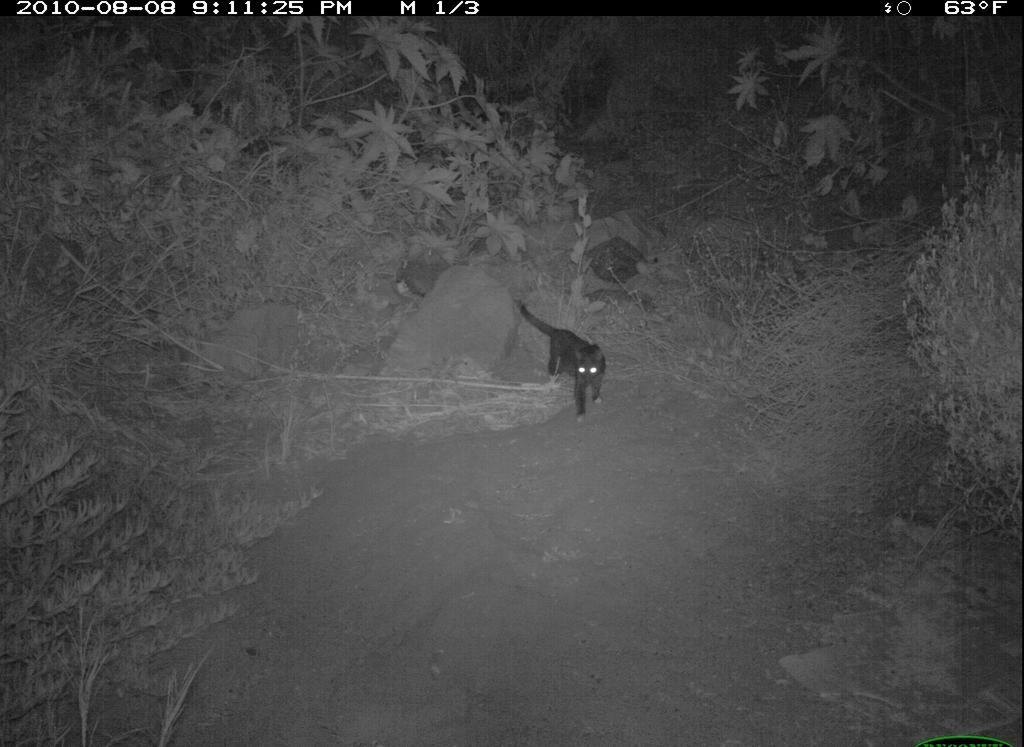cat: (515, 296, 610, 421)
